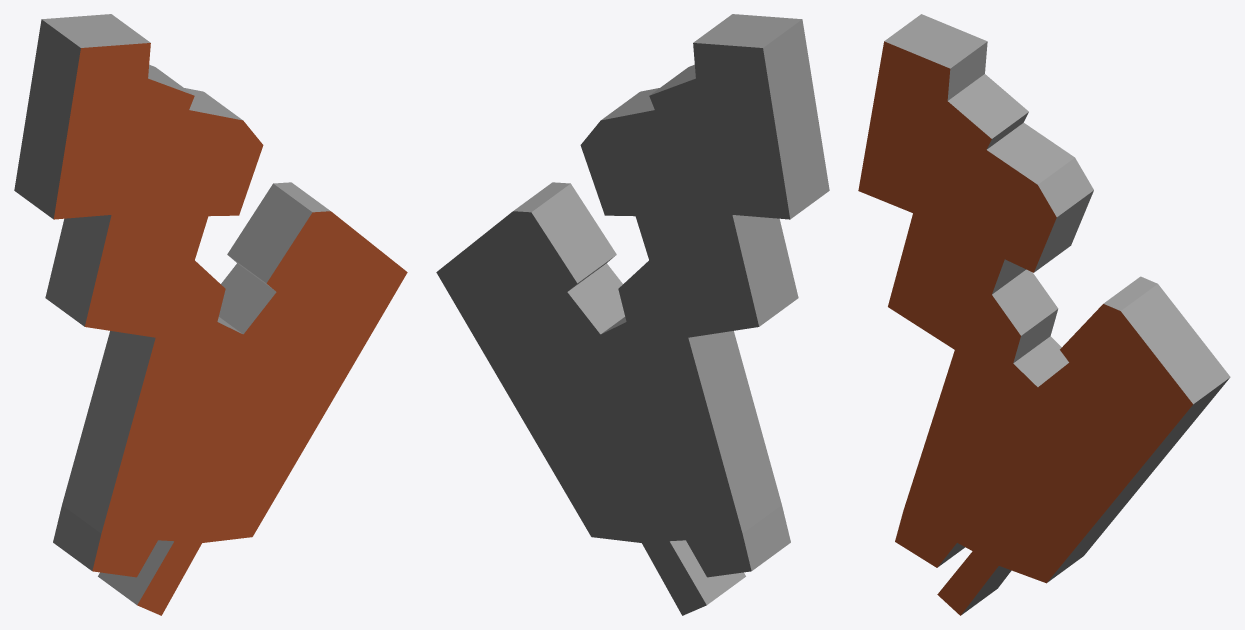
File: construction_0679_assumed_A_Casa_h6m.obj
3 views of the same model, side by side, from view 1: azimuth 30°, elevation 25°; view 2: azimuth 150°, elevation 25°; view 3: azimuth 330°, elevation 25° (orthographic). The views are drawn at different scales.
Visible parts, largest first — view 1: construction_0679_assumed_A_Casa; view 2: construction_0679_assumed_A_Casa; view 3: construction_0679_assumed_A_Casa.
Boxes of the visible parts, x1,y1,x2,y2 form: construction_0679_assumed_A_Casa: [14, 14, 407, 615]; construction_0679_assumed_A_Casa: [436, 14, 829, 615]; construction_0679_assumed_A_Casa: [858, 14, 1230, 615].
Bounding box in the file's own units: 31.1 × 49.33 × 6.
